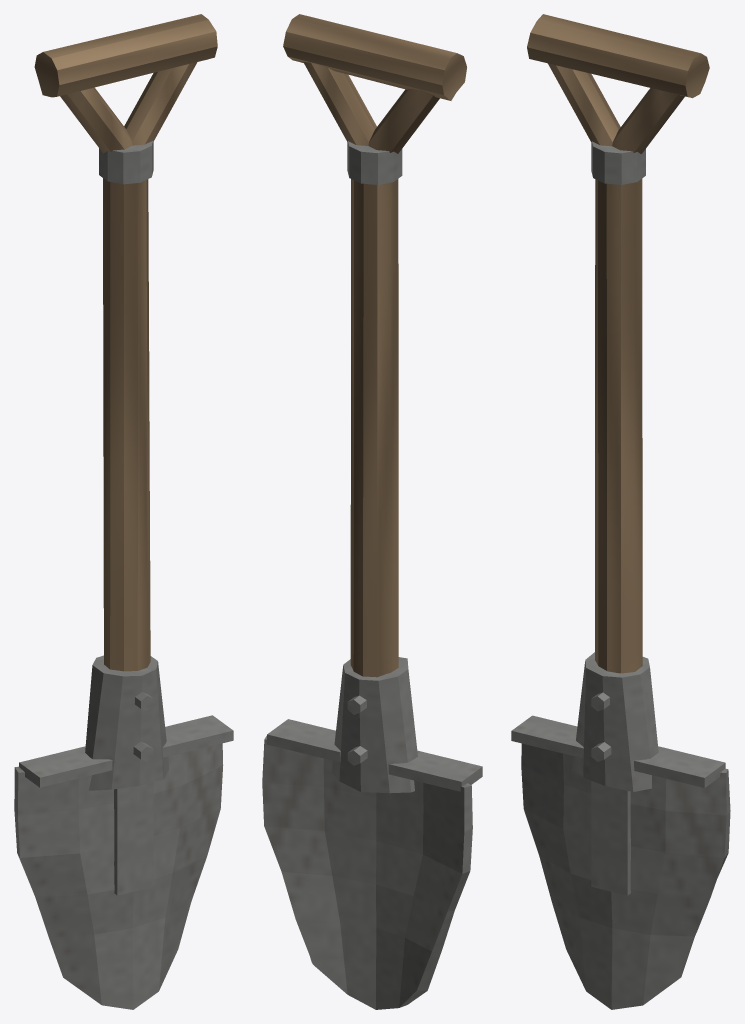
The model's file is basic_shovel.glb.
The picture shows the model from 3 angles, left to right: view 1: azimuth 30°, elevation 25°; view 2: azimuth 150°, elevation 25°; view 3: azimuth 330°, elevation 25°; orthographic projection.
Parts seen in each view (by area): view 1: BasicShovel; view 2: BasicShovel; view 3: BasicShovel.
Part boxes in pixels (box(x1,y1,x2,y2)): BasicShovel: box(14, 14, 233, 1009); BasicShovel: box(262, 14, 482, 1009); BasicShovel: box(511, 14, 730, 1009).
Size of the model in its own units: 0.1699 by 0.7665 by 0.06.
2 materials, 2 textured.
